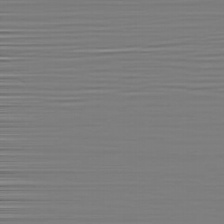cavities: (61, 98, 184, 172)
